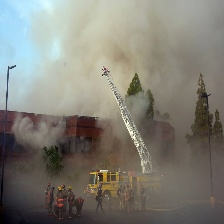smoke: (7, 1, 224, 178)
